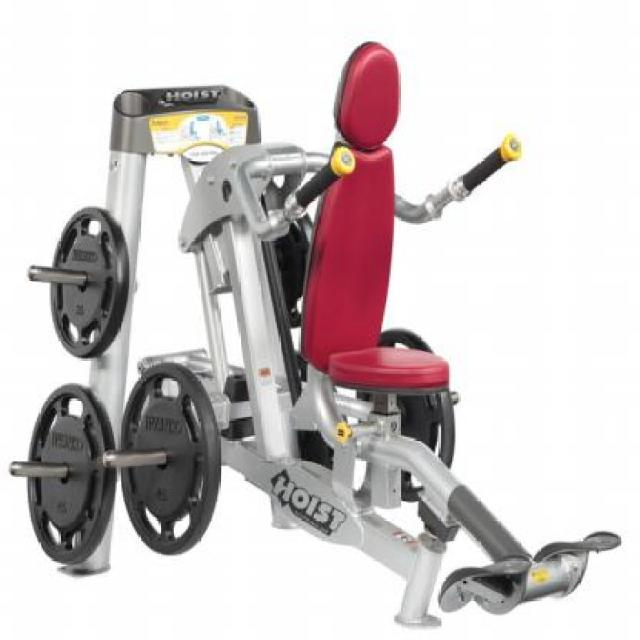seated dip machine: (15, 40, 617, 626)
